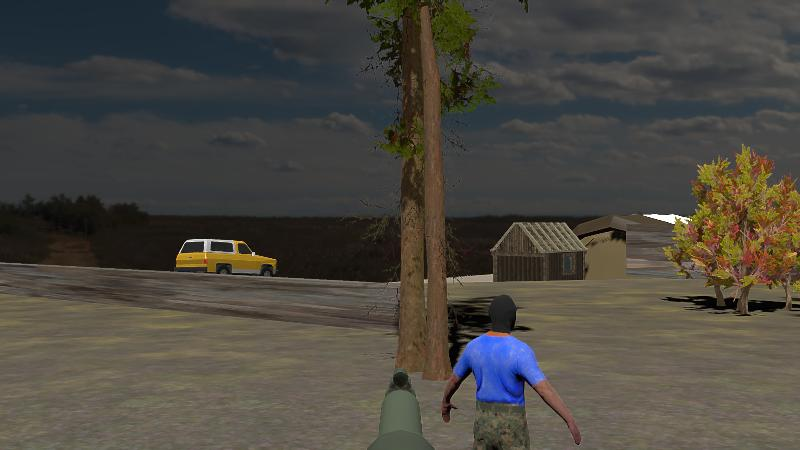House: (488, 219, 591, 283)
Human: (438, 293, 584, 449)
car: (173, 236, 280, 278)
